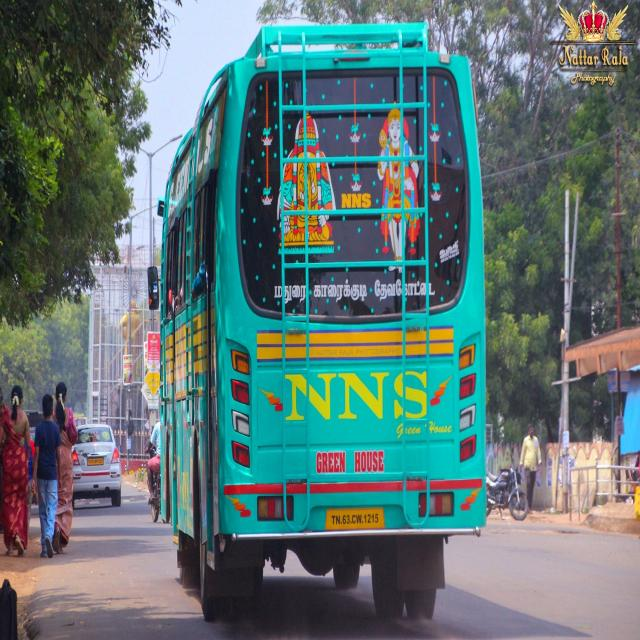Plate: (328, 509, 381, 528)
bus: (162, 23, 486, 626)
